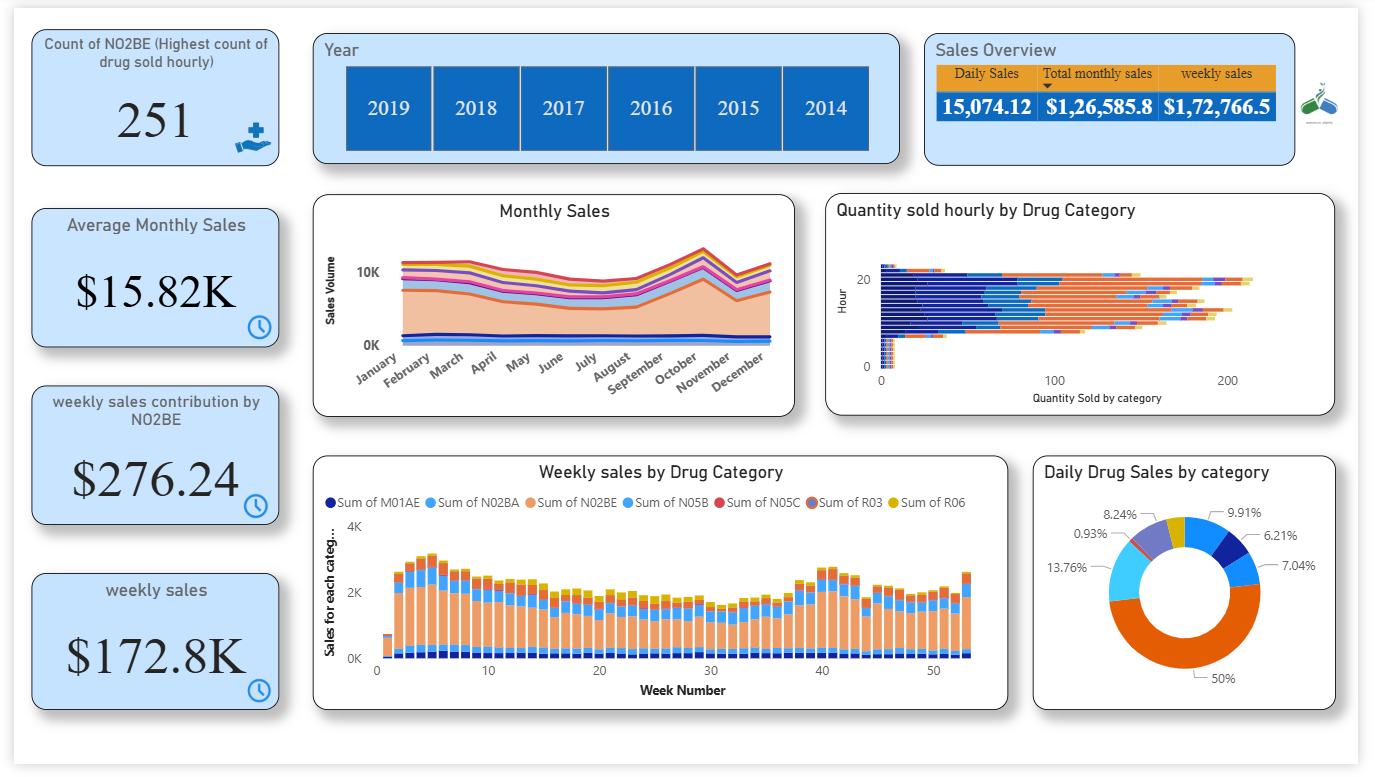

What the dashboard file says about the page in this screenshot:
{"tool":"powerbi","page":{"name":"Dashboard","canvas":[1280,720],"ordinal":1},"visuals":[{"type":"columnChart","title":"Weekly sales by Drug Category","fields":{"Category":["Sales Weekly.WEEK Number"],"Y":["Sales Weekly.M01AE","Sales Weekly.N02BA","Sales Weekly.N02BE","Sales Weekly.N05B","Sales Weekly.N05C","Sales Weekly.R03","Sales Weekly.R06"]},"box":[285,426,662,242],"z":0},{"type":"stackedAreaChart","title":"Monthly Sales","fields":{"Y":["Sales Monthly.M01AE","Sales Monthly.N02BA","Sales Monthly.N02BE","Sales Monthly.N05B","Sales Monthly.N05C","Sales Monthly.R03","Sales Monthly.M01AB","Sales Monthly.R06"],"Category":["Sales Monthly.Date.Variation.Date Hierarchy.Month"]},"box":[285,177,459,212],"z":1000},{"type":"barChart","title":"Quantity sold hourly by Drug Category","fields":{"Category":["Sales Hourly.Hour"],"Y":["Sales Hourly.M01AB","Sales Hourly.M01AE","Sales Hourly.N02BA","Sales Hourly.N02BE","Sales Hourly.N05B","Sales Hourly.N05C","Sales Hourly.R03","Sales Hourly.R06"]},"box":[773,176.7,485.9,212.3],"z":2000},{"type":"donutChart","title":"Daily Drug Sales by category","fields":{"Y":["Sales Daily.M01AB","Sales Daily.M01AE","Sales Daily.N02BA","Sales Daily.N02BE","Sales Daily.N05B","Sales Daily.N05C","Sales Daily.R03","Sales Daily.R06"]},"box":[970,426,289,242],"z":3000},{"type":"card","title":"Average Monthly Sales ","fields":{"Values":["Sales Monthly.Average monthly sales"]},"box":[17,190,236,133],"z":4000},{"type":"card","title":"Count of NO2BE (Highest count of drug sold hourly)","fields":{"Values":["Sales Hourly.N02BE"]},"box":[17,20,236,130],"z":5000},{"type":"card","title":"weekly sales contribution by NO2BE","fields":{"Values":["Sales Weekly.weekly sales contribution by NO2BE"]},"box":[17,360,236,133],"z":6000},{"type":"card","title":"weekly sales","fields":{"Values":["Sales Weekly.weekly sales"]},"box":[17,538,236,130],"z":7000},{"type":"textbox","box":[1247,56,12,94],"z":8000},{"type":"image","box":[211,632,46,36],"z":9000},{"type":"image","box":[207,456,46,37],"z":10000},{"type":"image","box":[1207.5,47.5,72.5,80],"z":11000},{"type":"image","box":[197,94,65,66],"z":12000},{"type":"image","box":[211,286,46,37],"z":13000},{"type":"slicer","title":"Year","fields":{"Values":["Sales Monthly.Date.Variation.Date Hierarchy.Year"]},"box":[284.7,23.3,559.5,125.2],"z":14000},{"type":"tableEx","title":"Sales Overview","fields":{"Values":["Sales Daily.Daily Sales","Sales Monthly.Total monthly sales","Sales Weekly.weekly sales"]},"box":[866.2,23.8,353.8,126.2],"z":15000}]}

Visuals, with their boxes in screenshot pixels (x1, y1, x2, y2), scaled from the page's 1280x720 canvas onto the 1375x777 screenshot:
"Weekly sales by Drug Category" columnChart: left=306, top=460, right=1017, bottom=721
"Monthly Sales" stackedAreaChart: left=306, top=191, right=799, bottom=420
"Quantity sold hourly by Drug Category" barChart: left=830, top=191, right=1352, bottom=420
"Daily Drug Sales by category" donutChart: left=1042, top=460, right=1352, bottom=721
"Average Monthly Sales " card: left=18, top=205, right=272, bottom=349
"Count of NO2BE (Highest count of drug sold hourly)" card: left=18, top=22, right=272, bottom=162
"weekly sales contribution by NO2BE" card: left=18, top=388, right=272, bottom=532
"weekly sales" card: left=18, top=581, right=272, bottom=721
textbox: left=1340, top=60, right=1352, bottom=162
image: left=227, top=682, right=276, bottom=721
image: left=222, top=492, right=272, bottom=532
image: left=1297, top=51, right=1374, bottom=138
image: left=212, top=101, right=281, bottom=173
image: left=227, top=309, right=276, bottom=349
"Year" slicer: left=306, top=25, right=907, bottom=160
"Sales Overview" tableEx: left=930, top=26, right=1311, bottom=162
